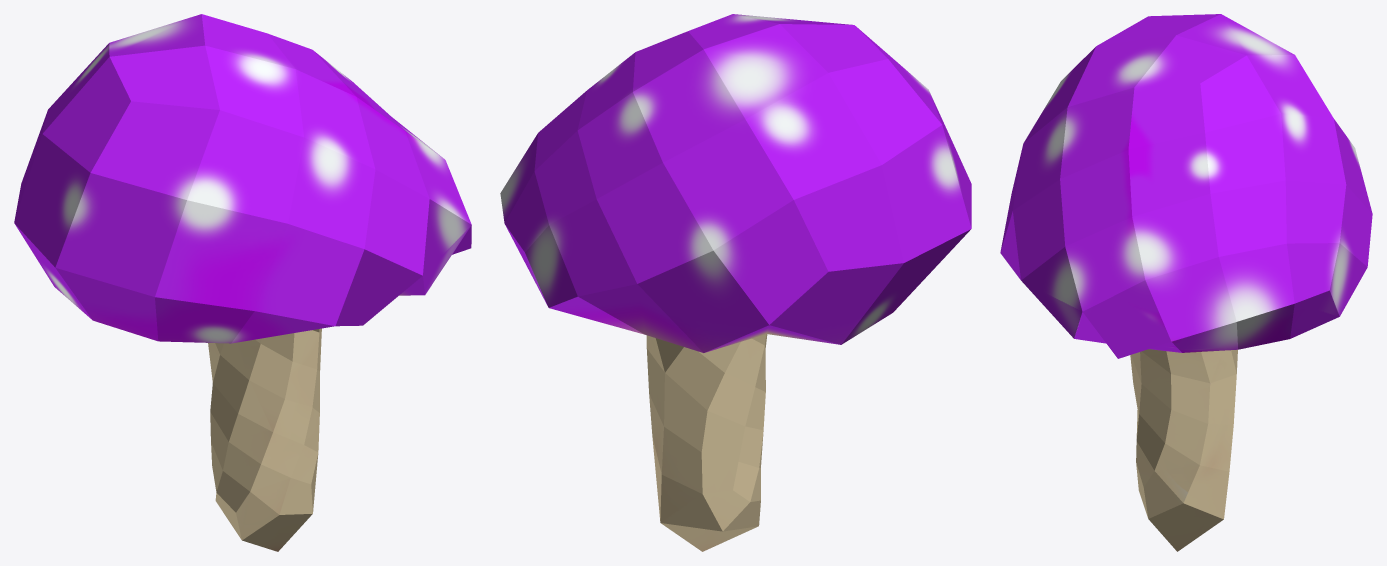
Rendered from grenademushroom.fbx.
3 renders of one model, left to right at view 1: azimuth 30°, elevation 25°; view 2: azimuth 150°, elevation 25°; view 3: azimuth 270°, elevation 25°, orthographic. The views are drawn at different scales.
Visible parts, largest first — view 1: mushroomgroup1; view 2: mushroomgroup1; view 3: mushroomgroup1.
Part boxes in pixels (bbox=[...]): mushroomgroup1: bbox=[14, 14, 471, 551]; mushroomgroup1: bbox=[500, 14, 971, 551]; mushroomgroup1: bbox=[1000, 14, 1372, 551].
Size of the model in its own units: 81.17 by 97.59 by 68.08.
Materials: 1 (1 with a texture image).
